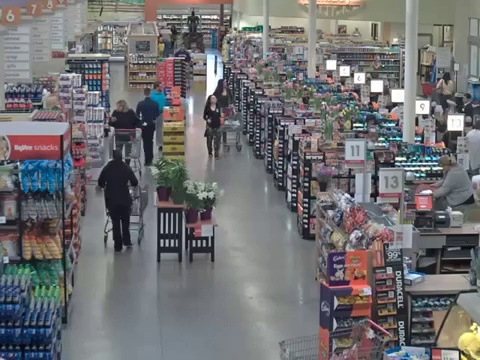face: (156, 82, 163, 92), (209, 96, 216, 104)
